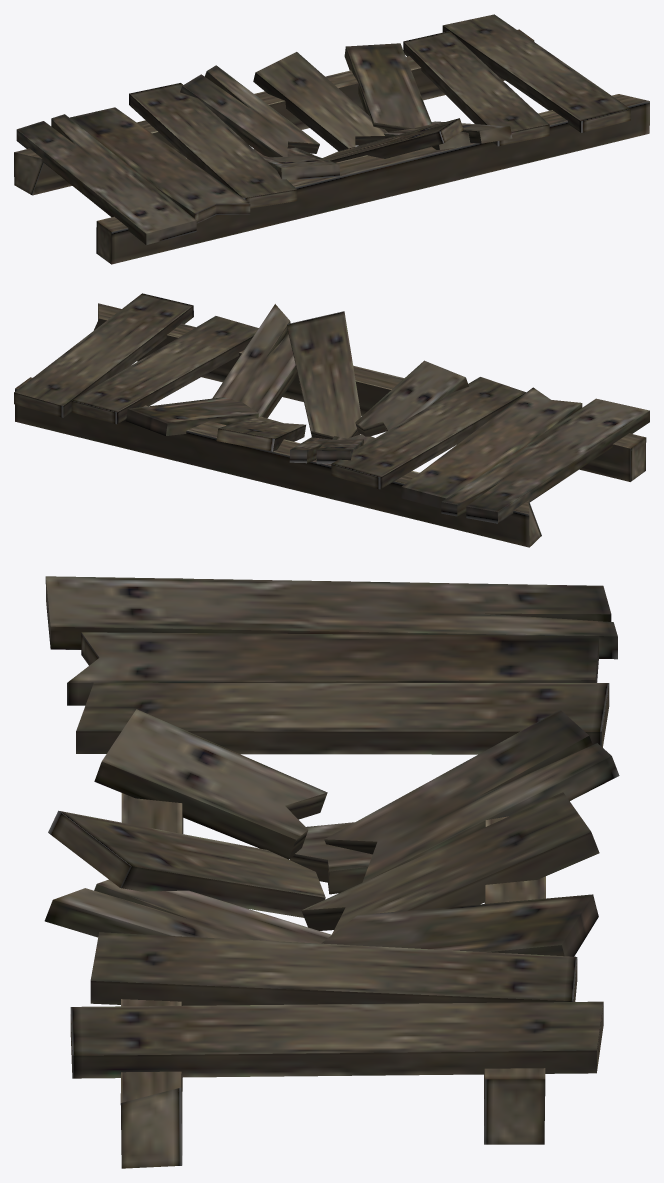
Rendered from DN_lv2_hcwdroad02.FBX.
3 views of the same model, one above another, from view 1: azimuth 30°, elevation 25°; view 2: azimuth 150°, elevation 25°; view 3: azimuth 270°, elevation 25° (orthographic). The views are drawn at different scales.
Parts seen in each view (by area): view 1: DN_lv2_hcwdroad02; view 2: DN_lv2_hcwdroad02; view 3: DN_lv2_hcwdroad02.
Boxes of the visible parts, bbox=[...] form: DN_lv2_hcwdroad02: bbox=[14, 14, 649, 264]; DN_lv2_hcwdroad02: bbox=[14, 293, 649, 547]; DN_lv2_hcwdroad02: bbox=[44, 576, 619, 1168].
Bounding box in the file's own units: 393 × 51.53 × 182.
